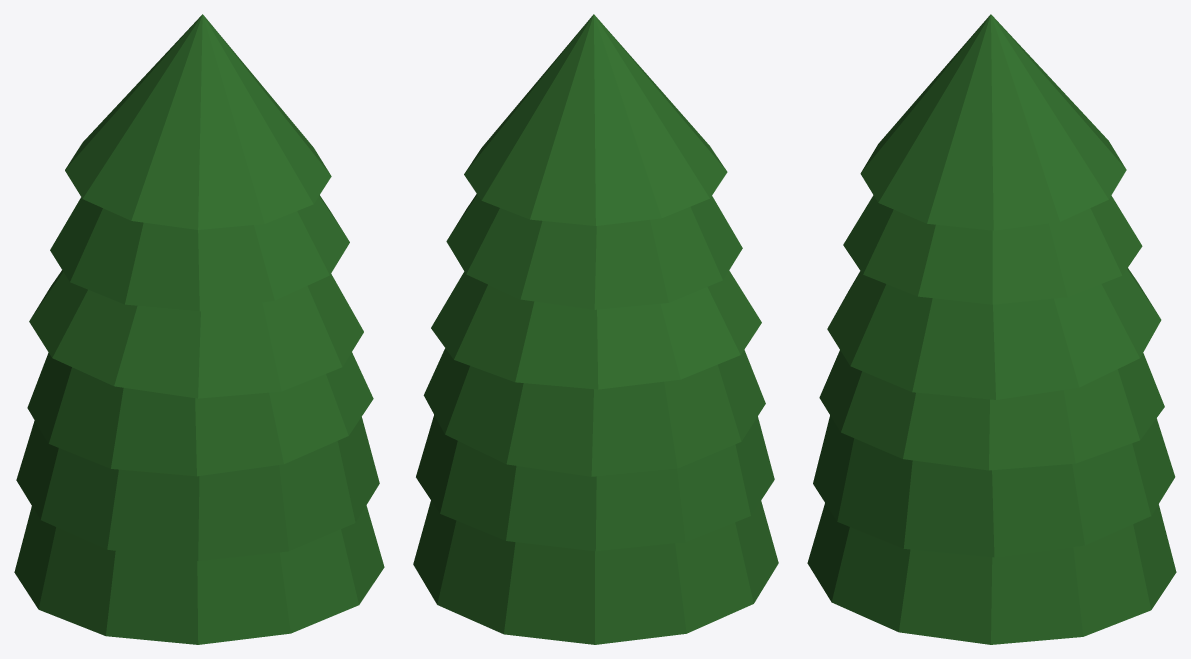
Rendered from Tree3.3.glb.
3 views of the same model, side by side, from view 1: azimuth 30°, elevation 25°; view 2: azimuth 150°, elevation 25°; view 3: azimuth 270°, elevation 25° (orthographic).
Visible parts, largest first — view 1: Tree3.3; view 2: Tree3.3; view 3: Tree3.3.
Boxes of the visible parts, box(x1,y1,x2,y2) form: Tree3.3: box(14, 14, 384, 644); Tree3.3: box(413, 14, 778, 644); Tree3.3: box(807, 14, 1176, 644).
Size of the model in its own units: 3.21 by 5.72 by 3.2.
